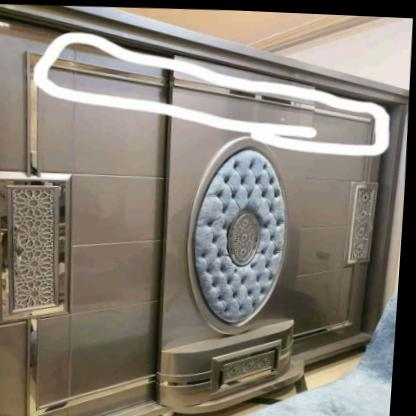Closet: (0, 4, 410, 416)
